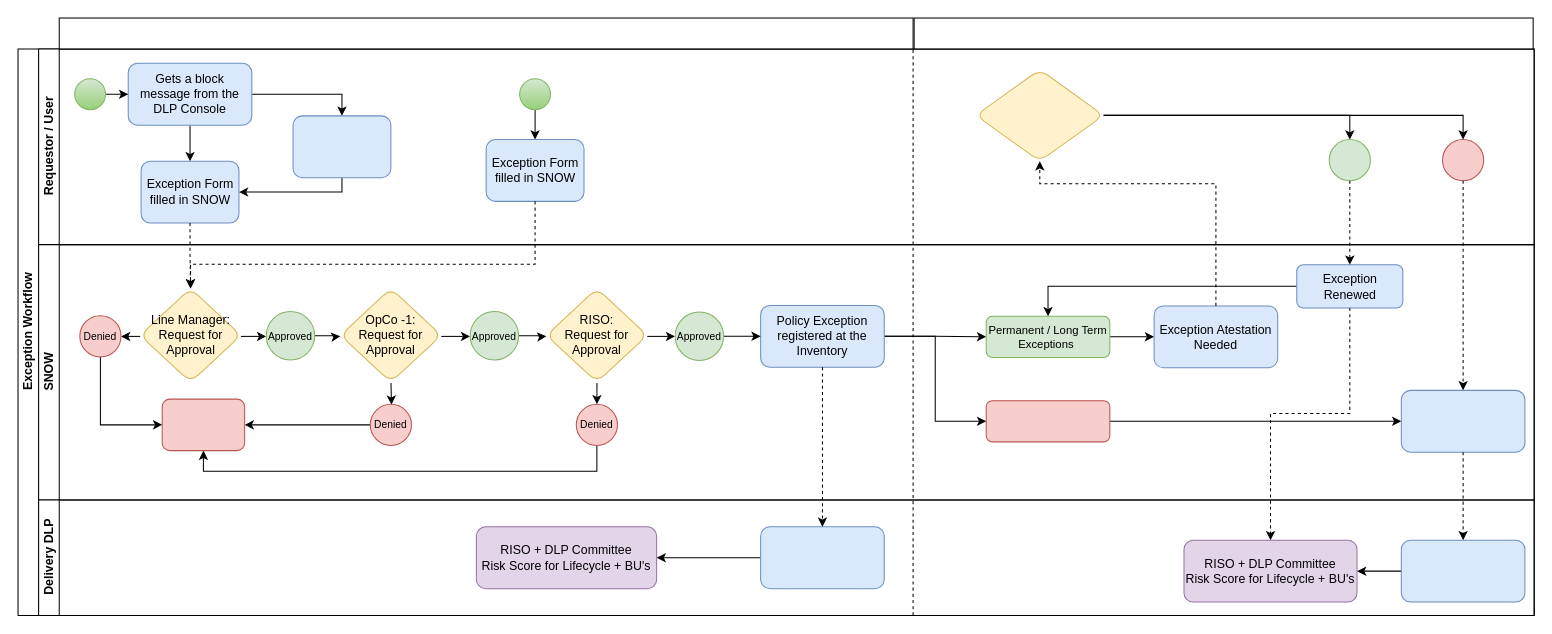
The diagram is 1552 pixels wide and 634 high, and some of its shapes have lost their labels. Each missing label, with the centre of its shape:
Asks Service Desk for help: point 341,146
Automated Email: Keep or revoke the exception?: point 1039,114
Close Request: point 203,424
Exception Implemented at the DLP Console: point 822,557
Exception Lifecycle: point 1223,33
Exception Revoked at the Console: point 1462,570
Exception status changed to Disabled on the Inventory: point 1462,420
Keep: point 1349,160
New Exception: point 485,33
Revoke: point 1462,160
Temporary Exceptions: point 1047,421
